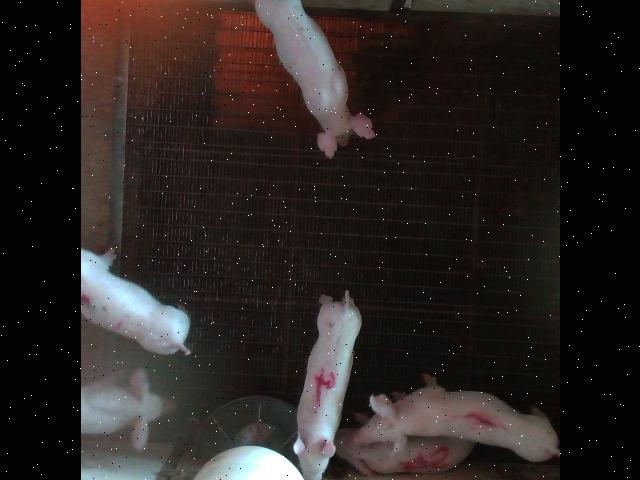pig-1: (356, 374, 559, 461)
pig-3: (81, 250, 189, 355)
pig-4: (293, 291, 361, 480)
pig-5: (334, 429, 474, 475)
